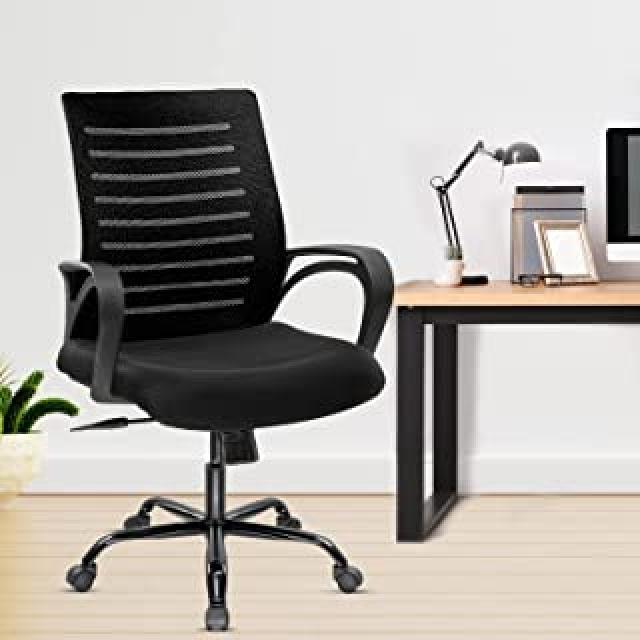chair: (57, 85, 370, 628)
